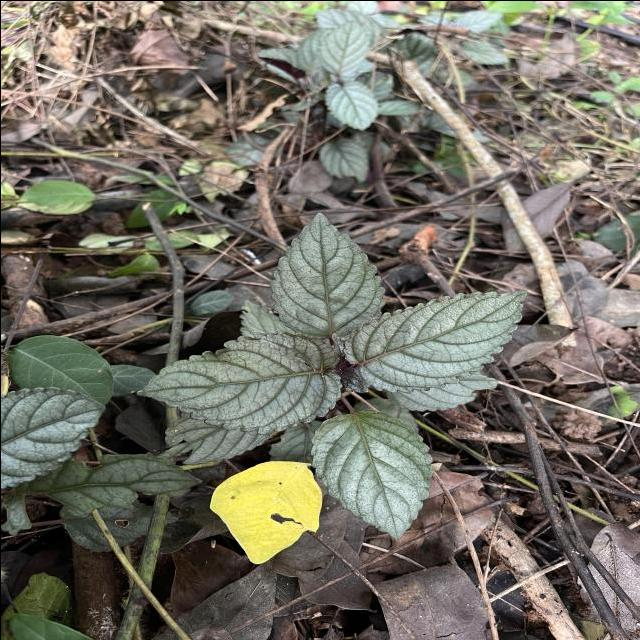Hemigraphis colorata: (133, 328, 343, 436), (341, 287, 528, 395), (308, 407, 434, 540), (268, 210, 387, 340), (0, 384, 107, 491)
